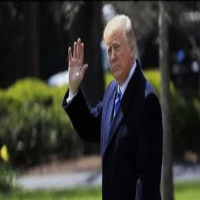ring: (72, 39, 76, 60)
